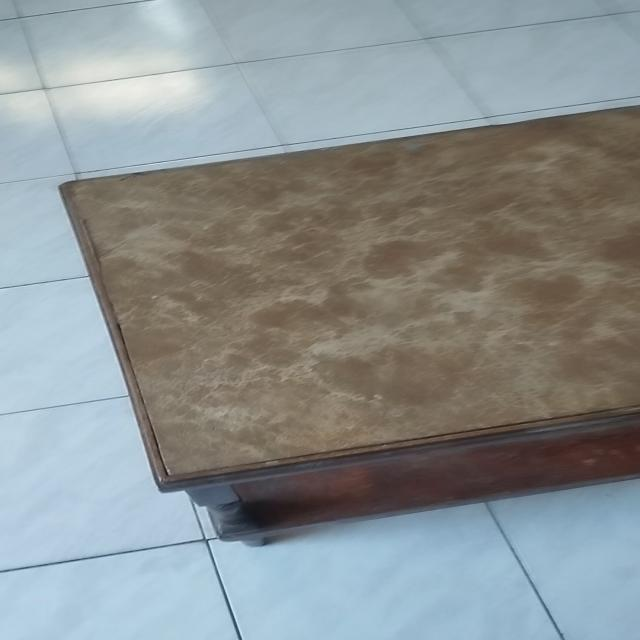table: (50, 101, 640, 550)
